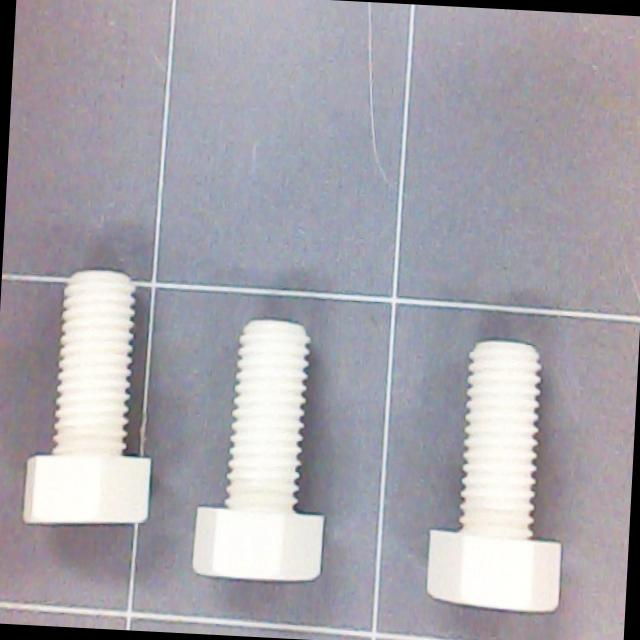bolts: (427, 339, 572, 614), (23, 267, 164, 532), (193, 318, 333, 584)
